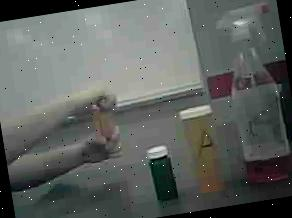Bottle A: (174, 97, 234, 202)
Bottle B: (87, 92, 126, 155)
Bottle C: (142, 140, 187, 212)
hazard: (208, 0, 292, 196)
